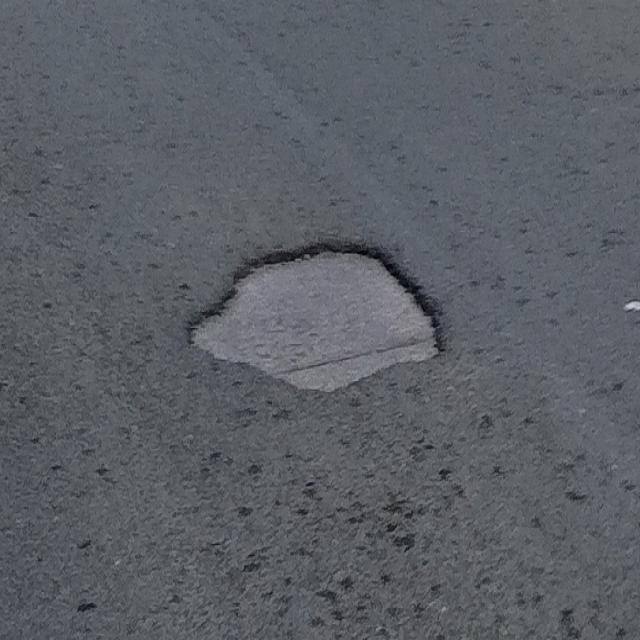pothole: (142, 156, 528, 472)
